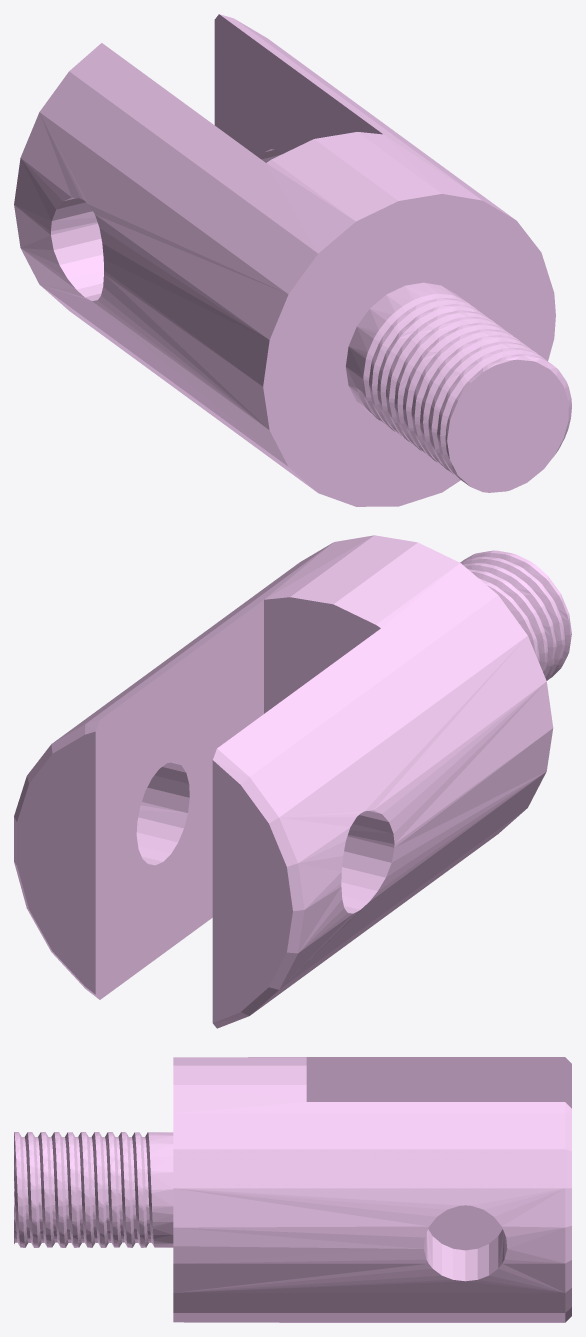
Rendered from wrist_pin.glb.
3 renders of one model, top to bottom at view 1: azimuth 30°, elevation 25°; view 2: azimuth 150°, elevation 25°; view 3: azimuth 270°, elevation 25°, orthographic. The views are drawn at different scales.
Parts seen in each view (by area): view 1: Node1; view 2: Node1; view 3: Node1.
Part boxes in pixels (left/top/right/bottom): Node1: left=14, top=14, right=571, bottom=506; Node1: left=14, top=535, right=571, bottom=1028; Node1: left=14, top=1057, right=571, bottom=1322.
Bounding box in the file's own units: 3.97 × 3.96 × 8.33.
